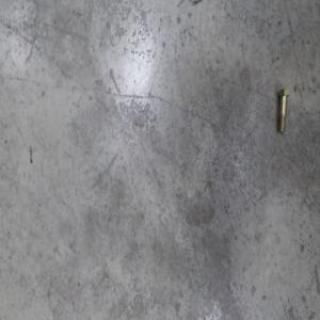Bolttrack_idkeyframe: (274, 86, 288, 132)
